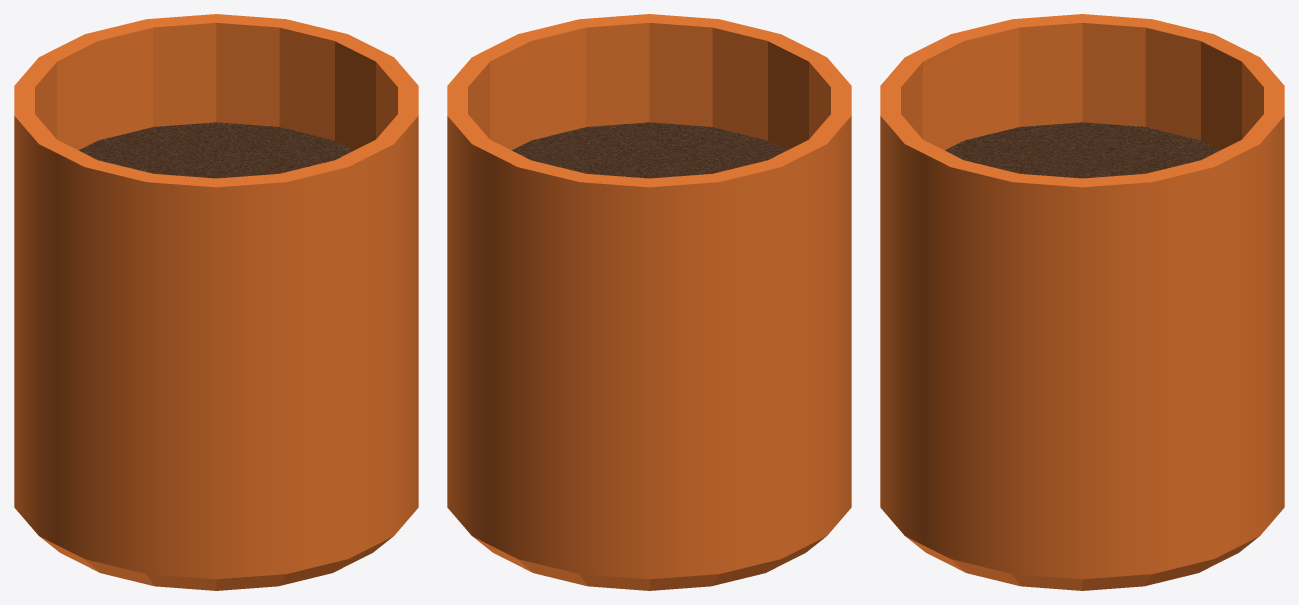
The model's file is circle pot.FBX.
The picture shows the model from 3 angles, left to right: view 1: azimuth 30°, elevation 25°; view 2: azimuth 150°, elevation 25°; view 3: azimuth 270°, elevation 25°; orthographic projection.
Visible parts, largest first — view 1: Cylinder001; view 2: Cylinder001; view 3: Cylinder001.
Boxes of the visible parts, x1,y1,x2,y2 form: Cylinder001: (14, 14, 418, 590); Cylinder001: (447, 14, 851, 590); Cylinder001: (880, 14, 1284, 590).
Size of the model in its own units: 10.3 by 11.46 by 10.14.
2 materials, 2 textured.
